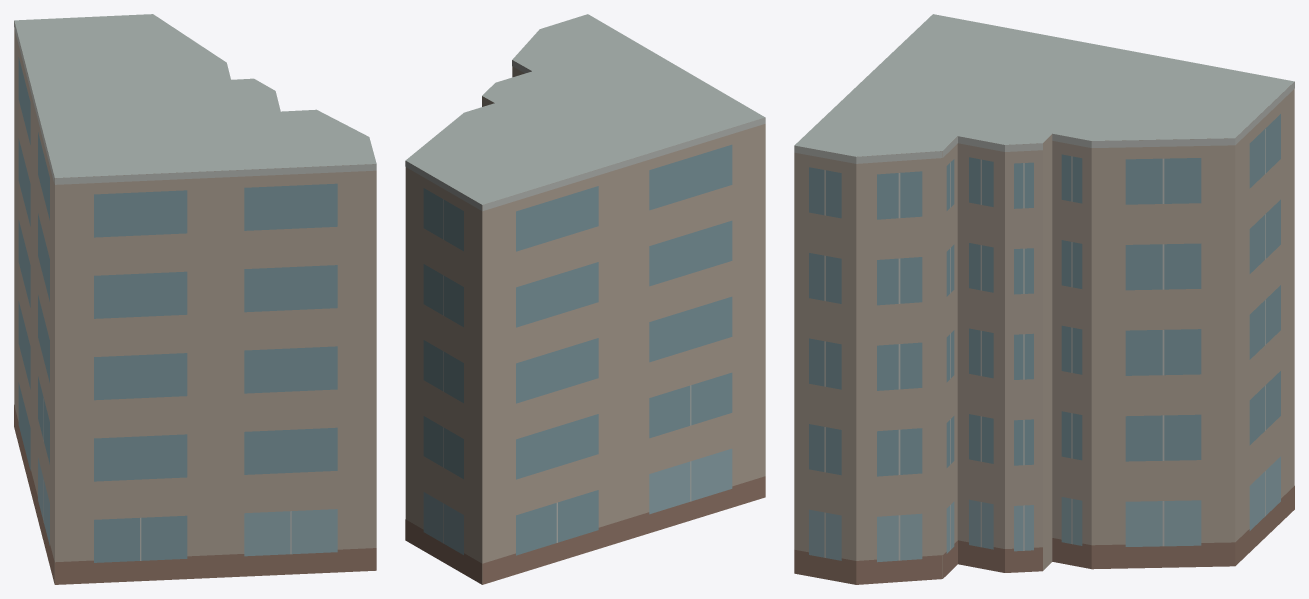
The model's file is survey-upis-32533432.glb.
3 views of the same model, side by side, from view 1: azimuth 30°, elevation 25°; view 2: azimuth 150°, elevation 25°; view 3: azimuth 270°, elevation 25° (orthographic). The views are drawn at different scales.
Parts seen in each view (by area): view 1: survey-upis-32533432.tmp; view 2: survey-upis-32533432.tmp; view 3: survey-upis-32533432.tmp.
Part boxes in pixels (box(x1,y1,x2,y2)): survey-upis-32533432.tmp: box(14, 14, 376, 584); survey-upis-32533432.tmp: box(405, 14, 765, 584); survey-upis-32533432.tmp: box(794, 14, 1294, 584).
Size of the model in its own units: 10.53 by 14.7 by 15.59.
